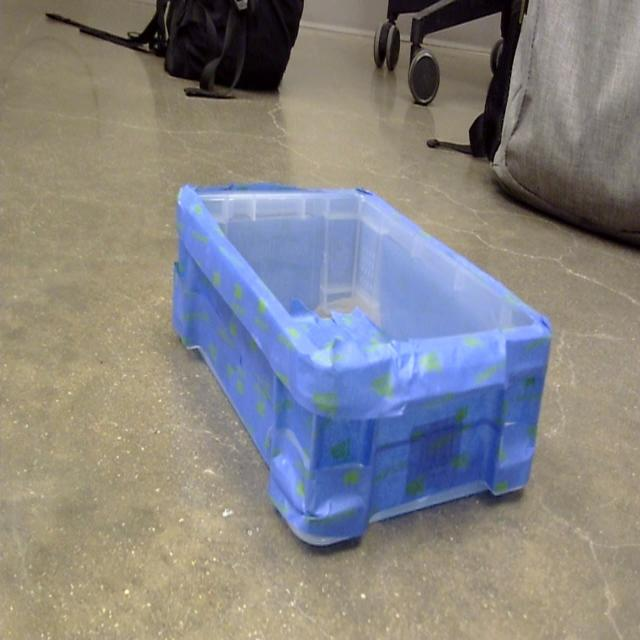bucket: (172, 184, 552, 552)
